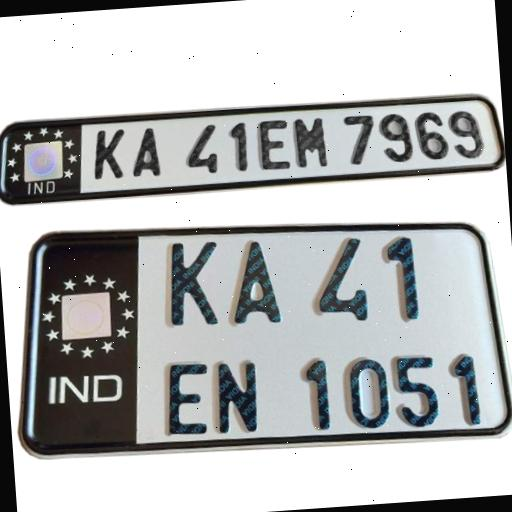number plate: (23, 202, 510, 464), (6, 88, 496, 204)
